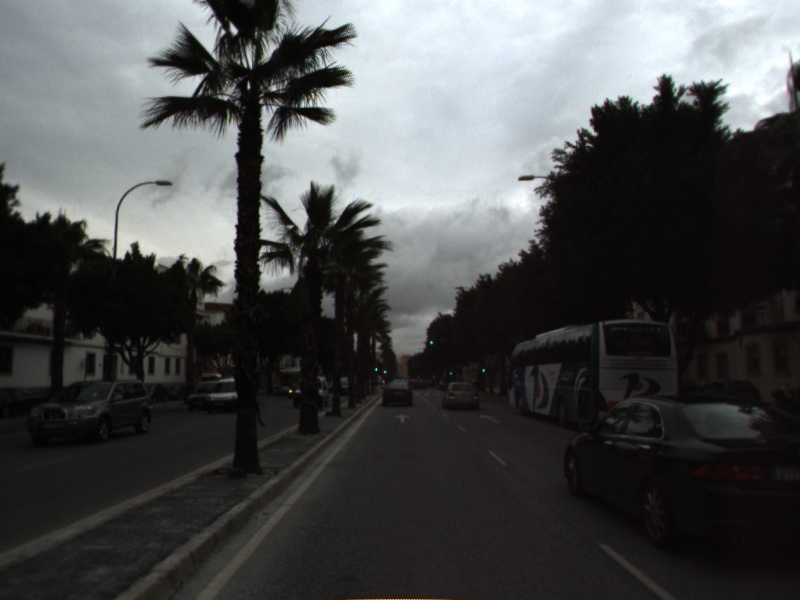STRAIGHT: (477, 412, 505, 426), (392, 412, 414, 425)
